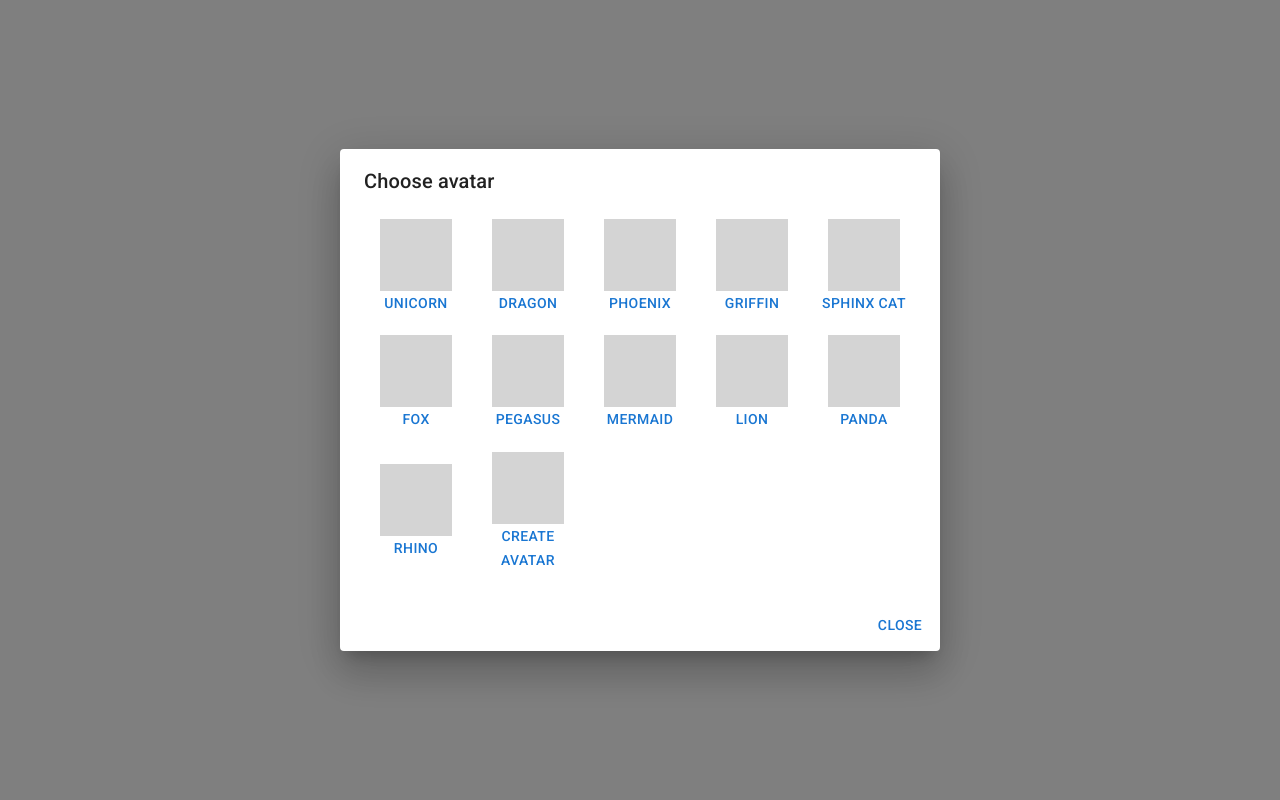
Test: reports generation unavailability without closing the chooser
The width and height of the screenshot is (1280, 800).
Click the button "Create avatar": (528, 512) [476,446,580,579]
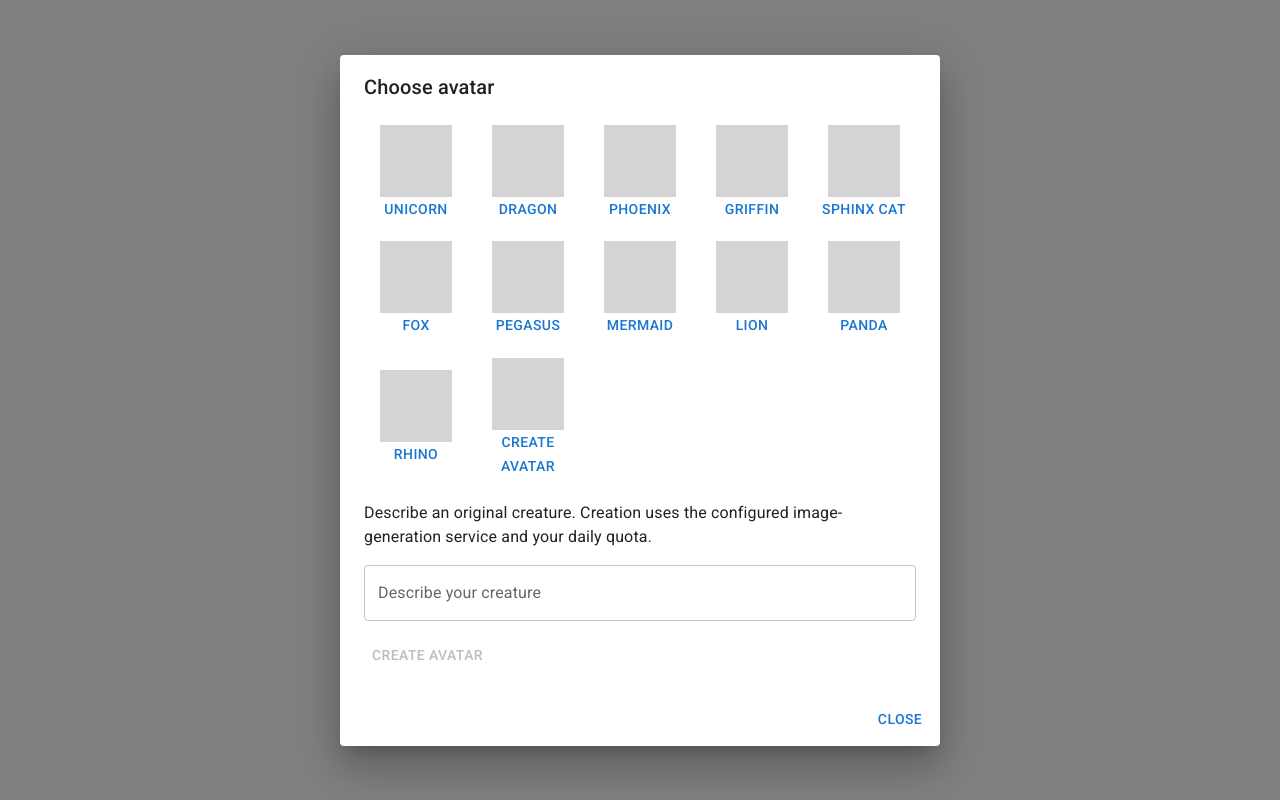
In the field: (640, 592) [364,564,916,620], type "Original creature"
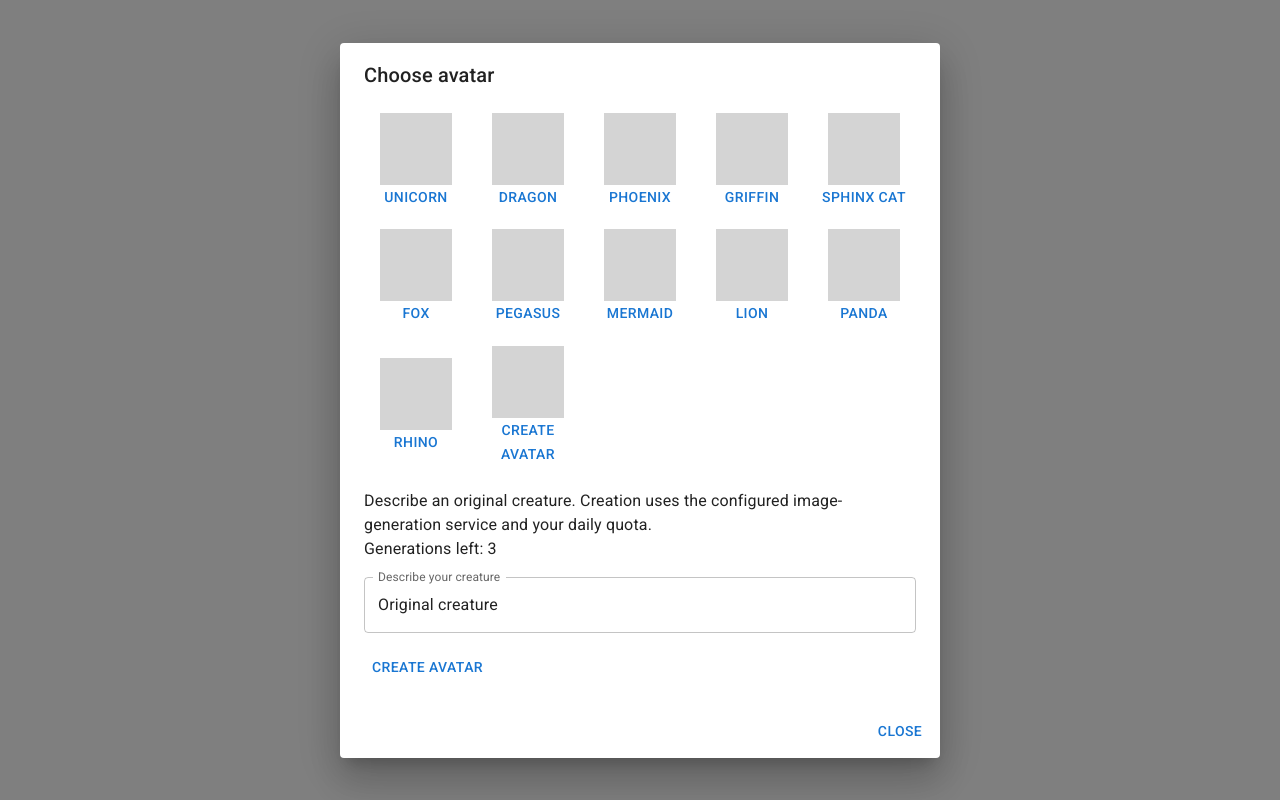
Expected: the button "Create avatar" below "Describe your creature" is enabled
Click the button "Create avatar" below "Describe your creature": (428, 667) [364,648,491,685]
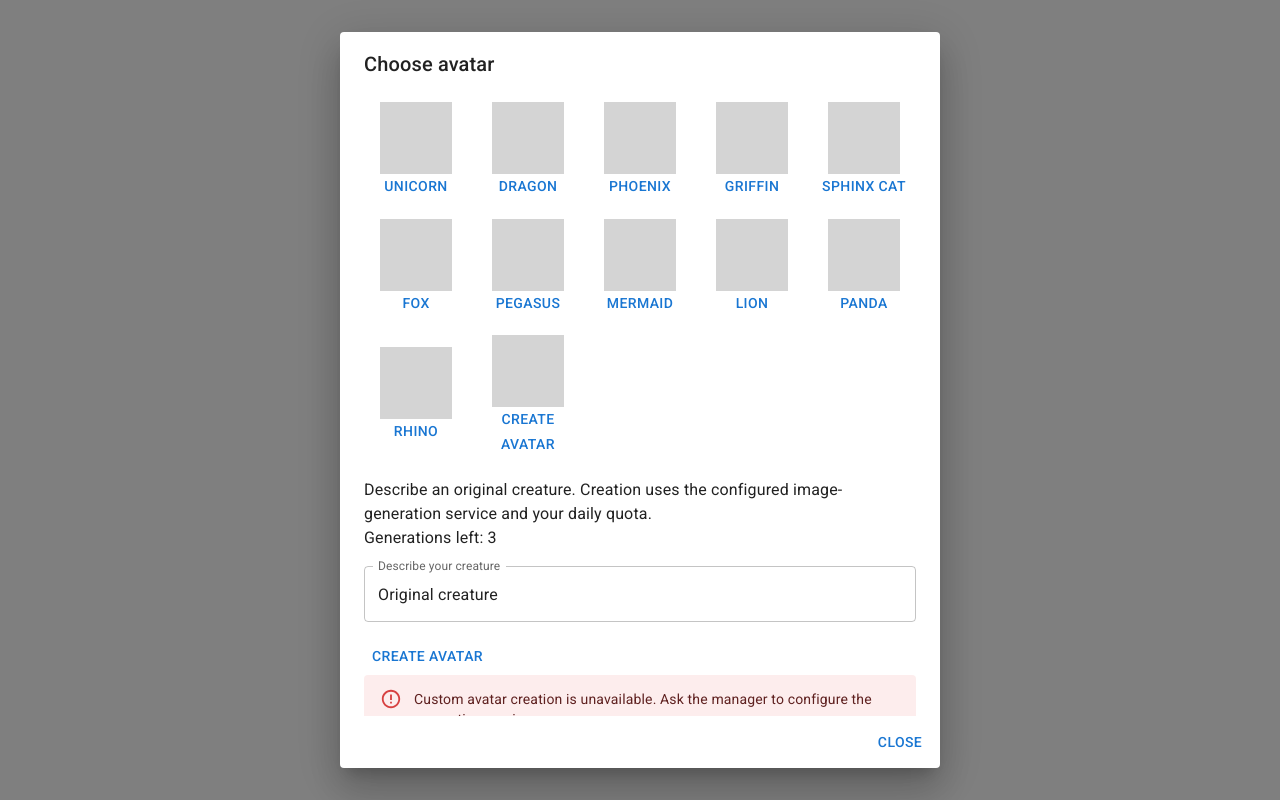
Expected: the message shows "unavailable", [414,690,872,716]
